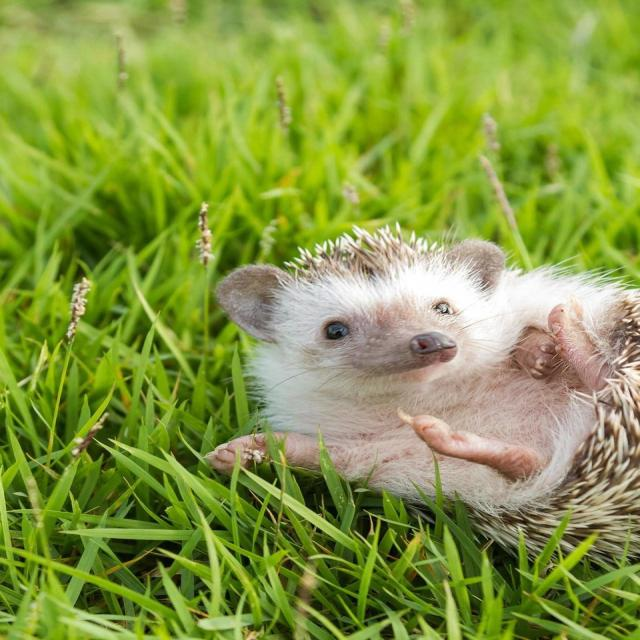Hedgehog: (198, 223, 640, 551)
